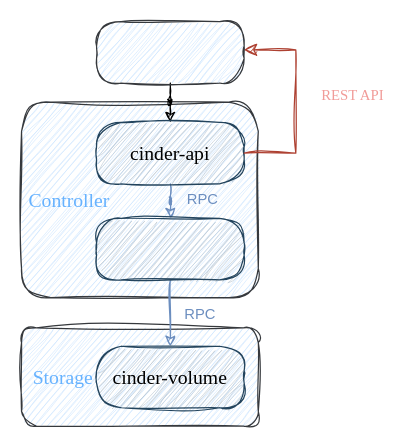
This 417x448 diagram has some shape labels left out. Here are the shapes that lost their labels. From the top down, the centre of each, then its label:
At point (169, 51): "Client".
At point (169, 248): "cinder-scheduler".
